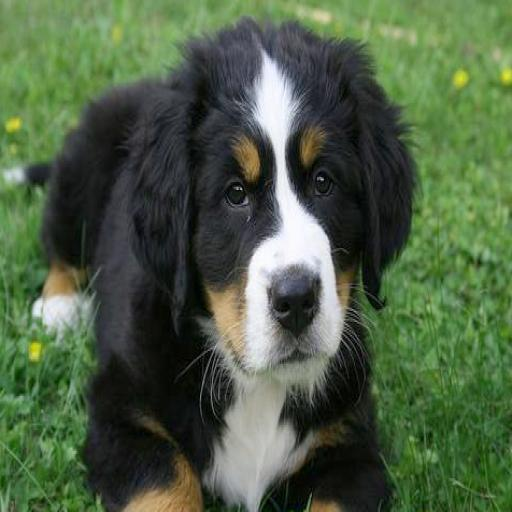dog_face: (149, 19, 410, 363)
